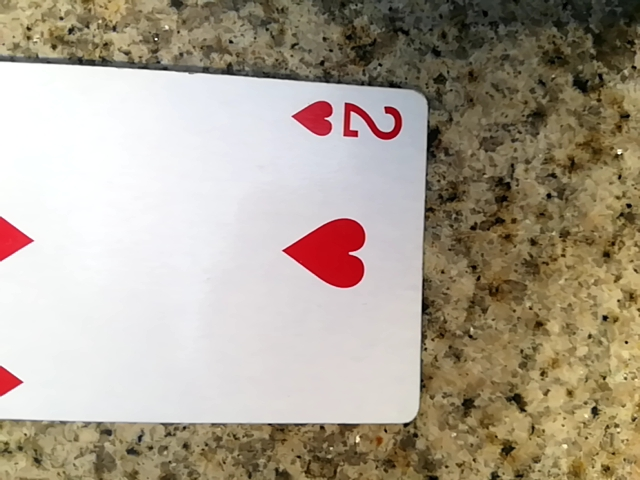hx 2: (1, 53, 432, 437)
